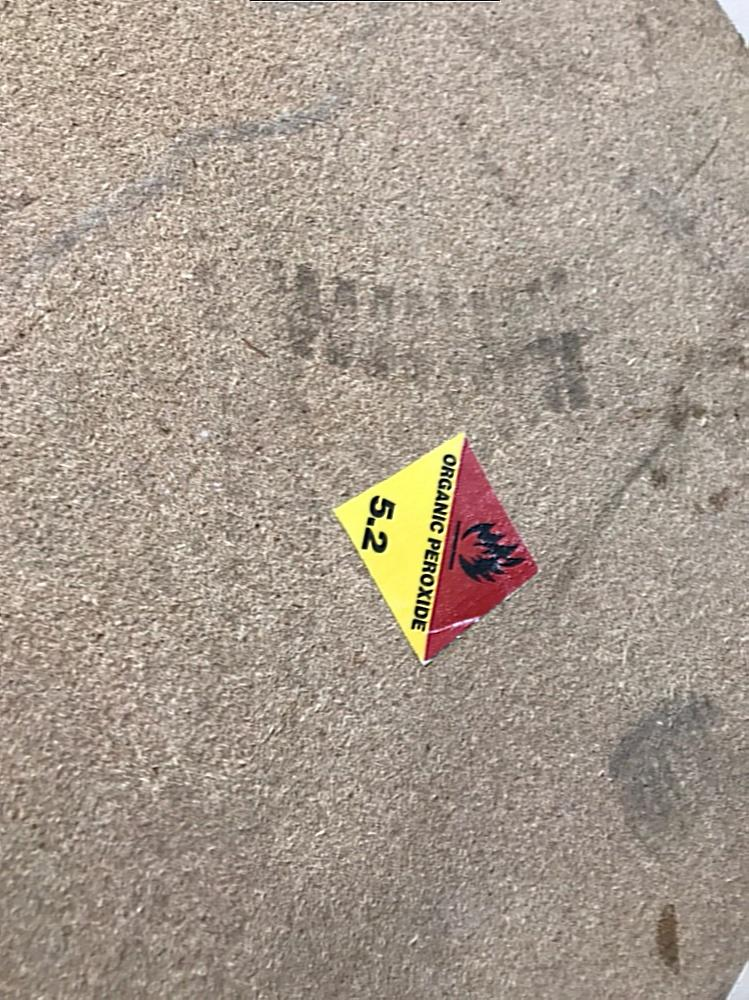organic-peroxide: (329, 425, 536, 675)
